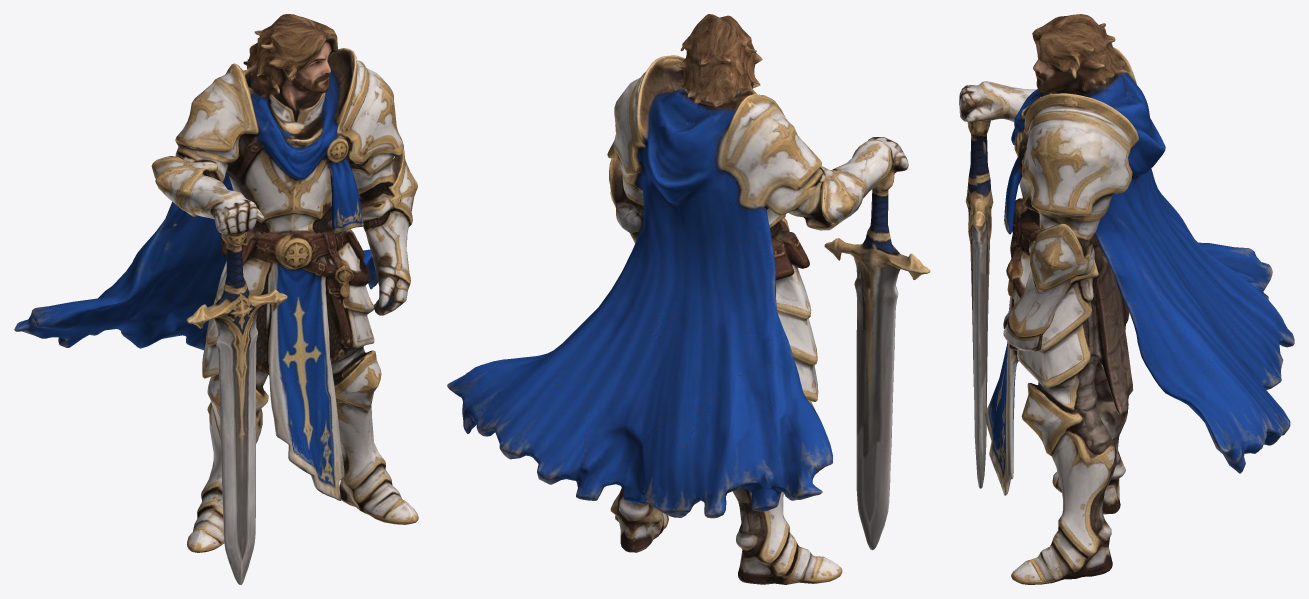
The model's file is holy-knight.glb.
3 renders of one model, left to right at view 1: azimuth 30°, elevation 25°; view 2: azimuth 150°, elevation 25°; view 3: azimuth 270°, elevation 25°, orthographic. The views are drawn at different scales.
Bounding box in the file's own units: 1.45 × 1.9 × 1.1.
1 material, 1 textured.
